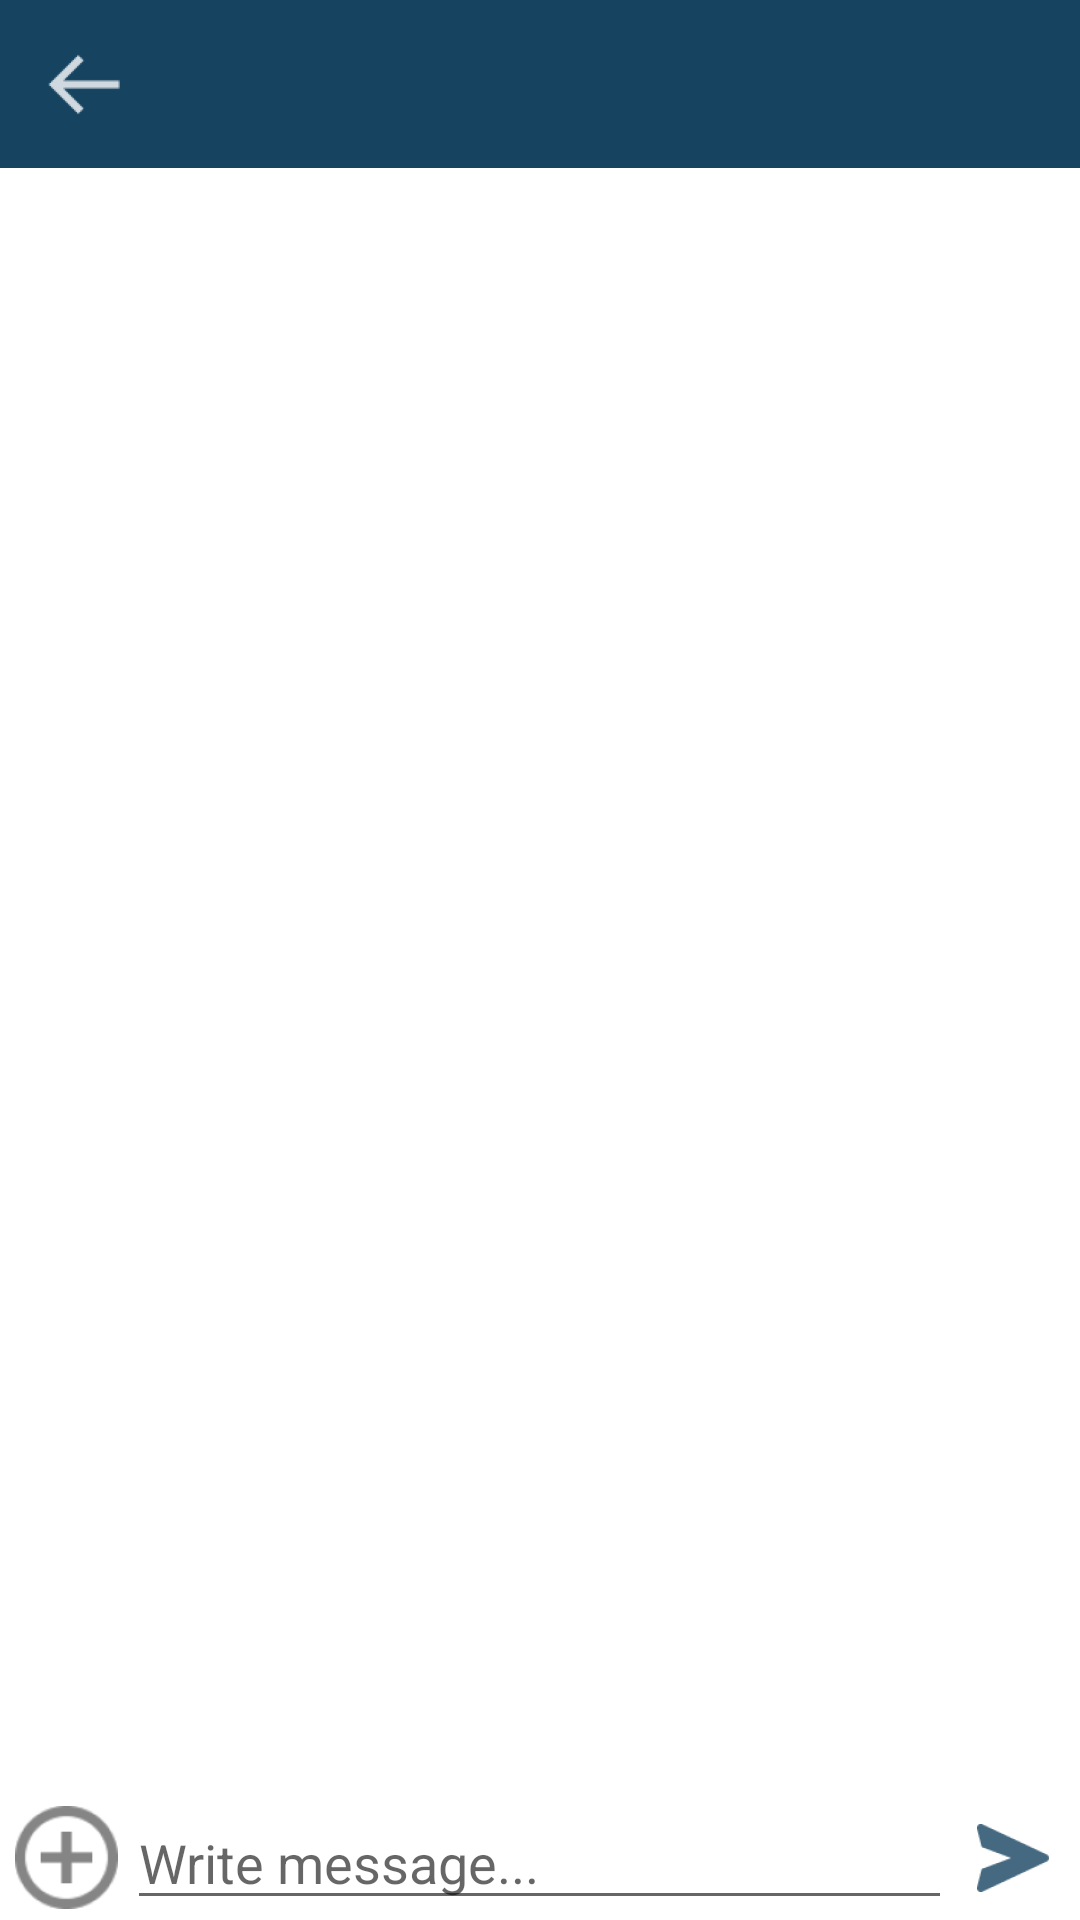

Named icons in this screenshot (1080w x 1920h) and their centers, (x=x, y=y):
agregar: (x=66, y=1857)
back: (x=84, y=84)
enviar: (x=1013, y=1858)
